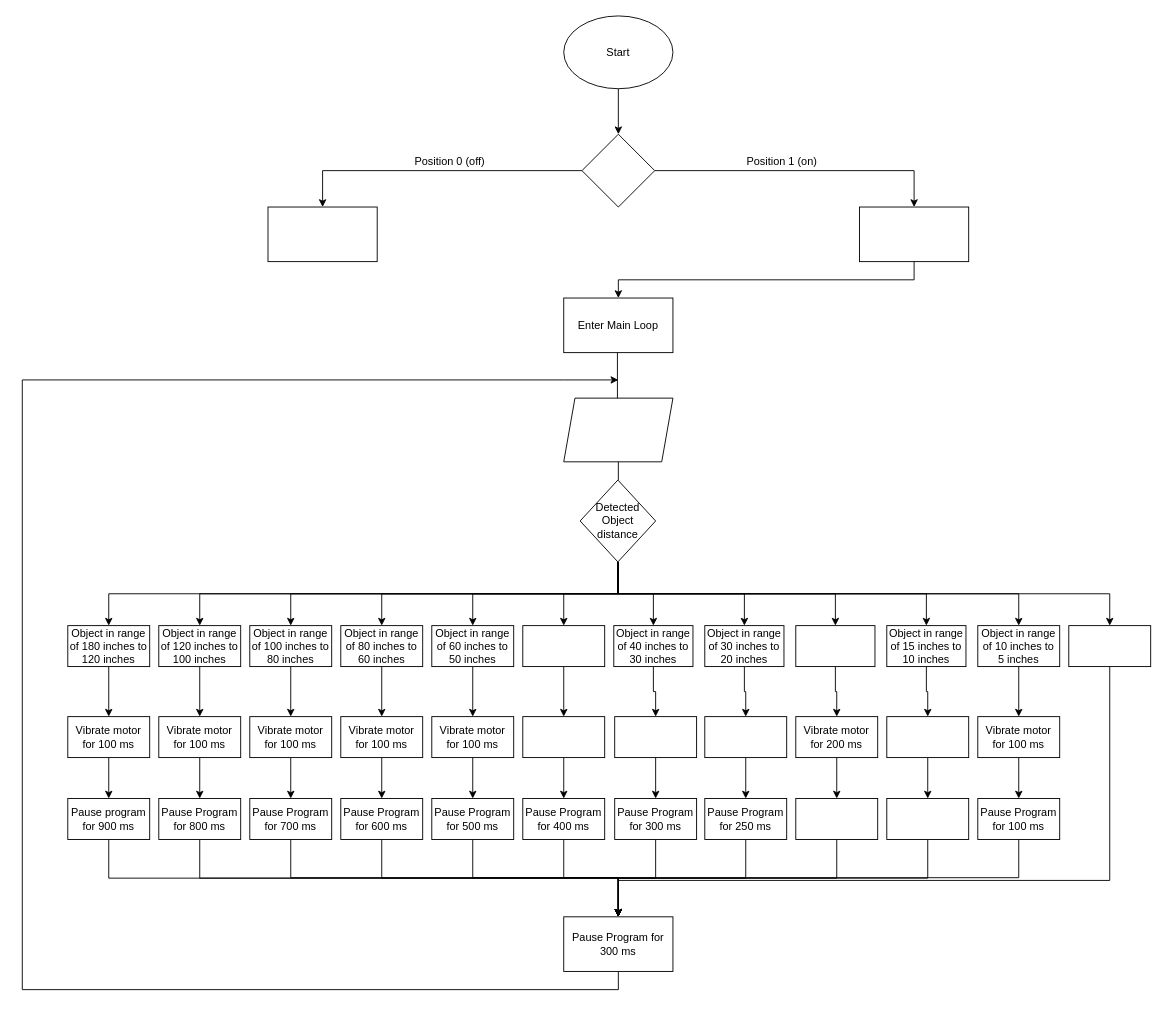
The diagram is 1167 pixels wide and 1013 high, and some of its shapes have lost their labels. The centre of each missing label's shape, as x and y in pixels:
Device is off and is in charging mode: the point at 322,234
Fetch Object Distance From Ultrasonic Sensor: the point at 618,429
Lilypad is powered on and initialized: the point at 914,234
Object in range of 20 inches to 15 inches: the point at 835,646
Object in range of 50 inches to 40 inches: the point at 563,646
Object not in range: the point at 1109,646
Pause Program for 150 ms: the point at 927,818
Pause Program for 200 ms: the point at 836,818
Switch Position: the point at 618,170
Vibrate motor for 150 ms: the point at 927,737
Vibrate motor for 250 ms: the point at 745,737
Vibrate motor for 300 ms: the point at 655,737
Vibrate motor for 400 ms: the point at 563,737
